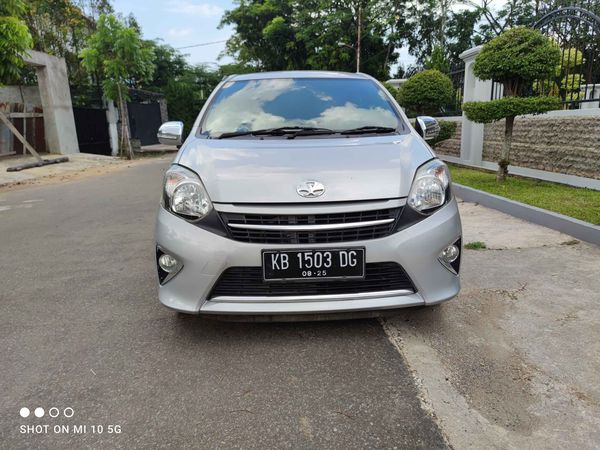plate: (261, 250, 368, 277)
